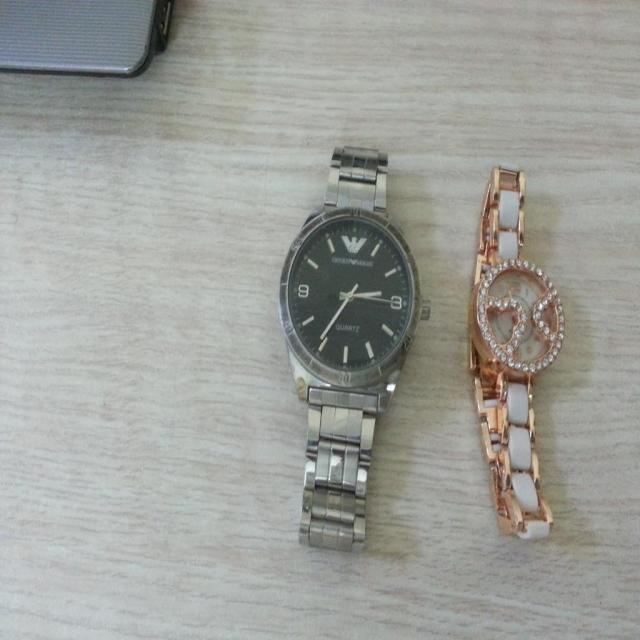Wrist watch: (279, 144, 430, 556), (465, 165, 564, 546)
